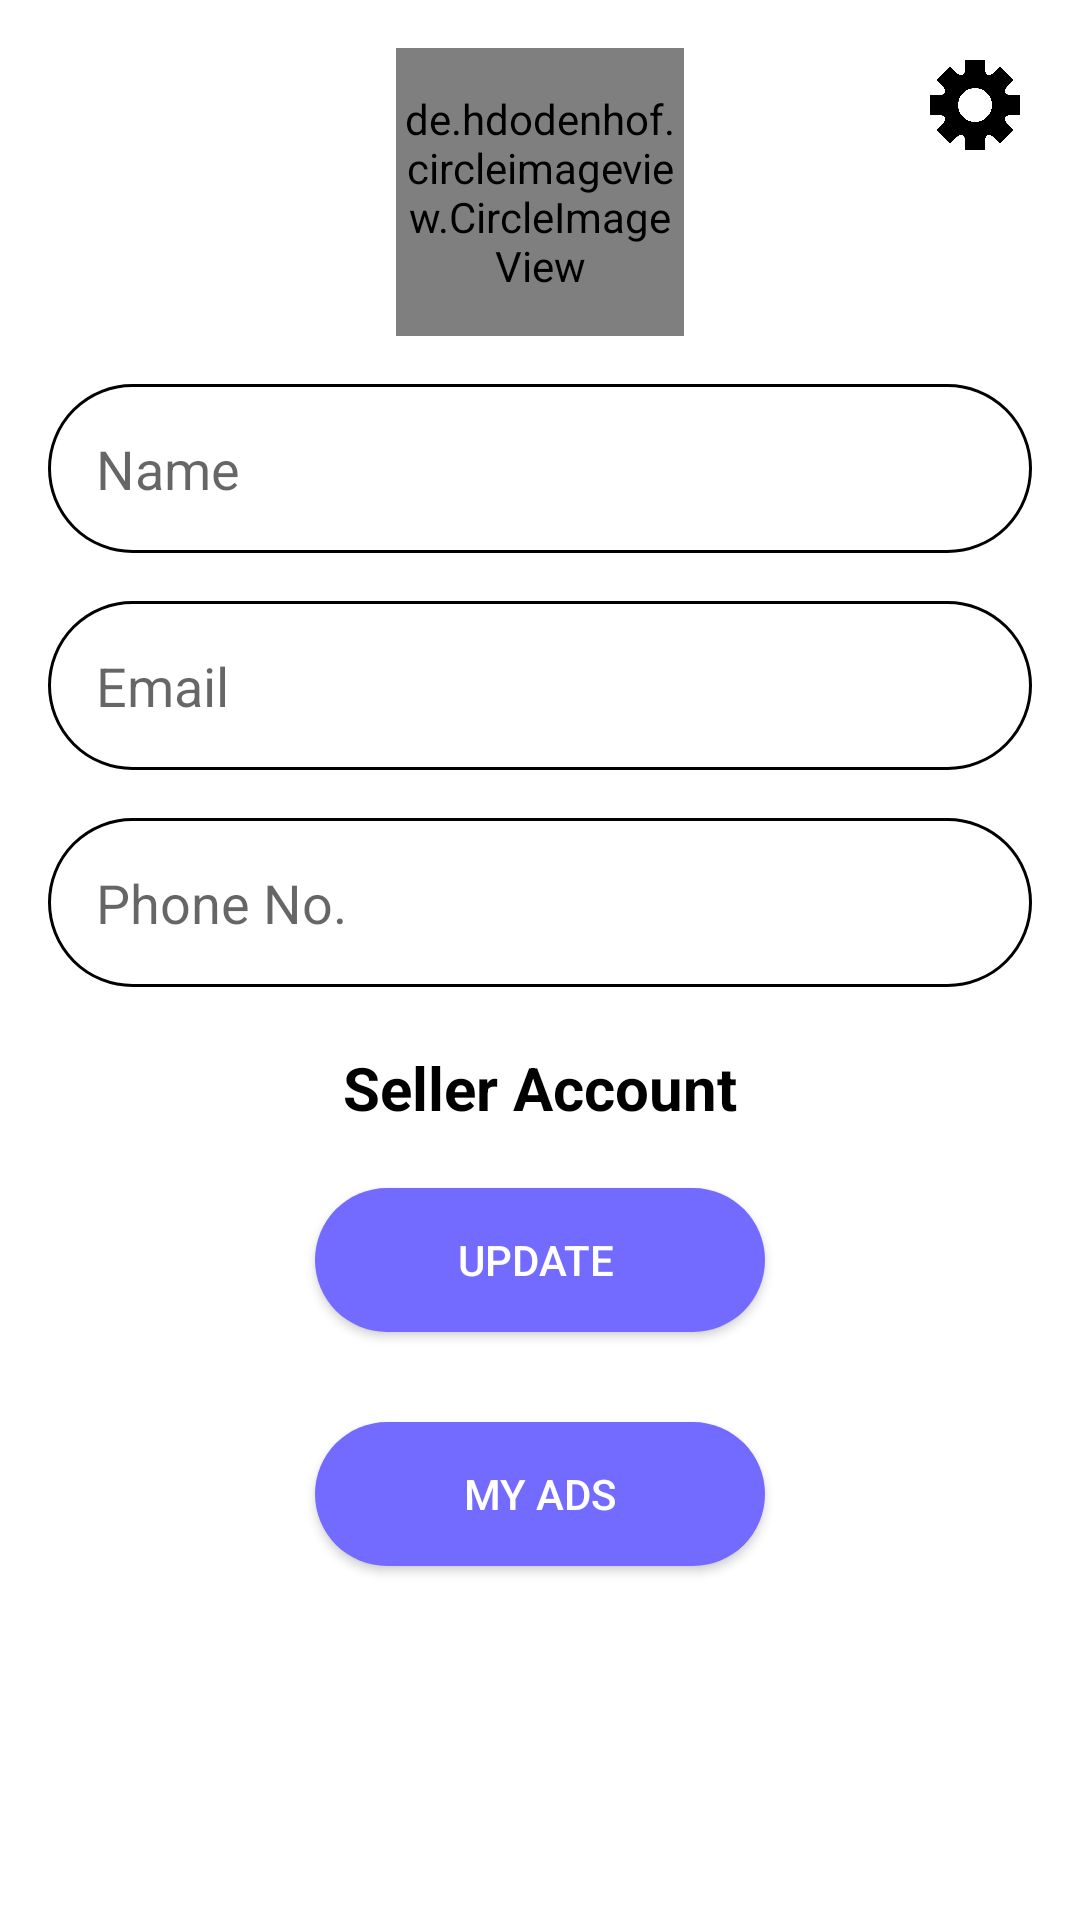

Point at icon controls on the screen. Image size 1080px×1920px, points as [x,y].
setting: [975,105]
